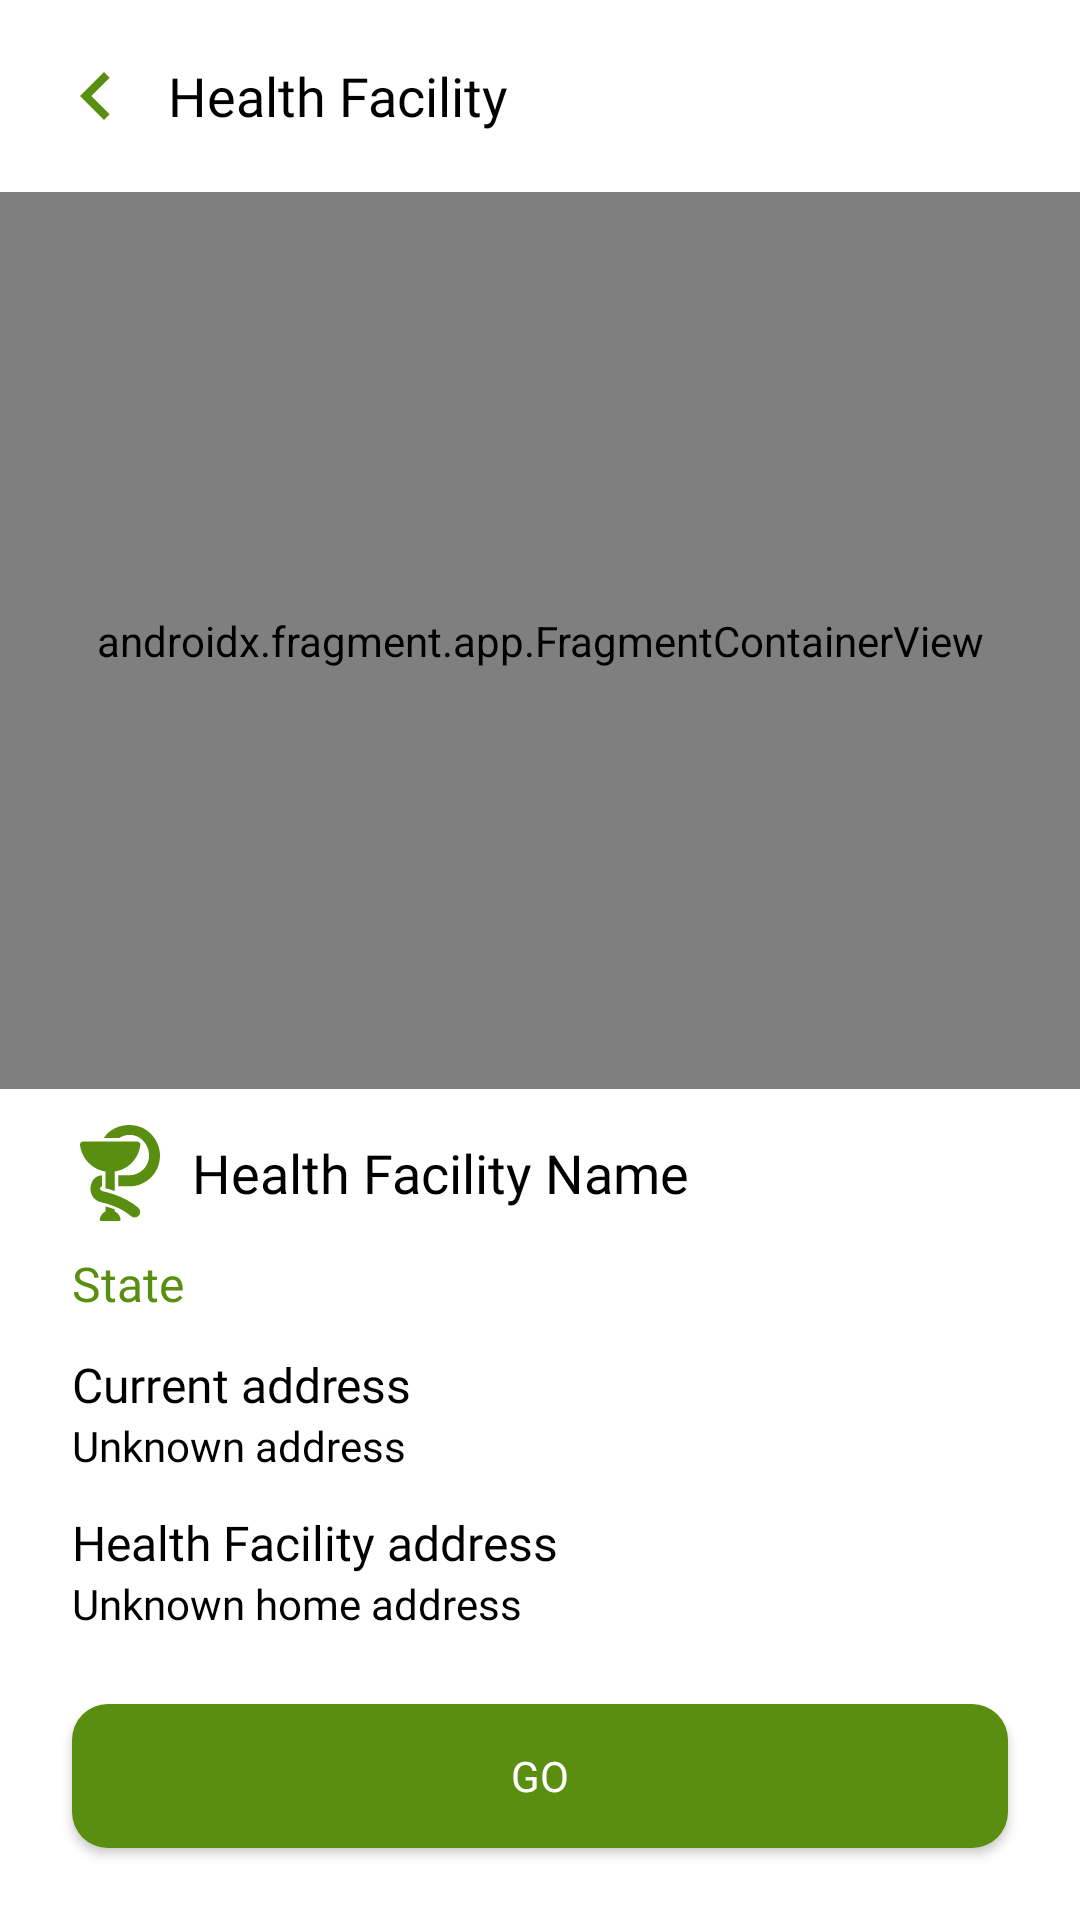

Where icons sit on this 1080x1920 app screen, as [x1=x1, y1=y1, x2=x2, y2=y2]:
chevron left: [x1=80, y1=72, x2=110, y2=120]
pharmacy: [x1=80, y1=1125, x2=160, y2=1221]
